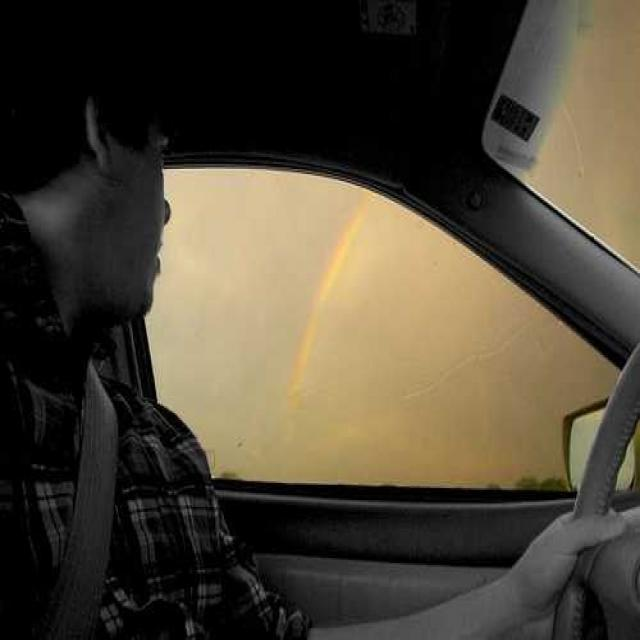seatbelt: (37, 340, 133, 618)
